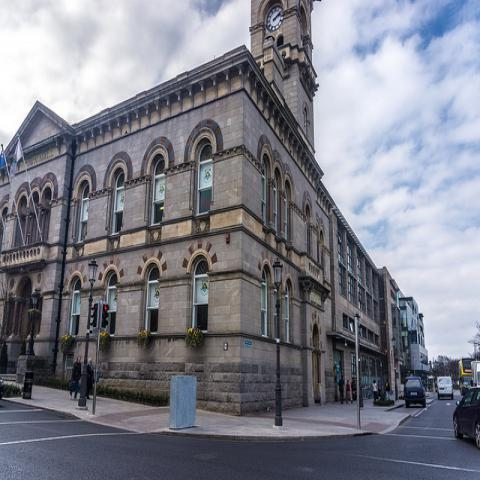bus: (458, 358, 476, 381)
car: (452, 385, 480, 452), (404, 377, 426, 408)
truck: (436, 377, 454, 399), (470, 361, 480, 387)
